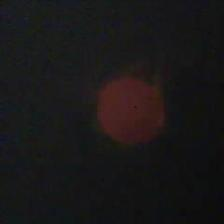fertile: (94, 67, 172, 148)
